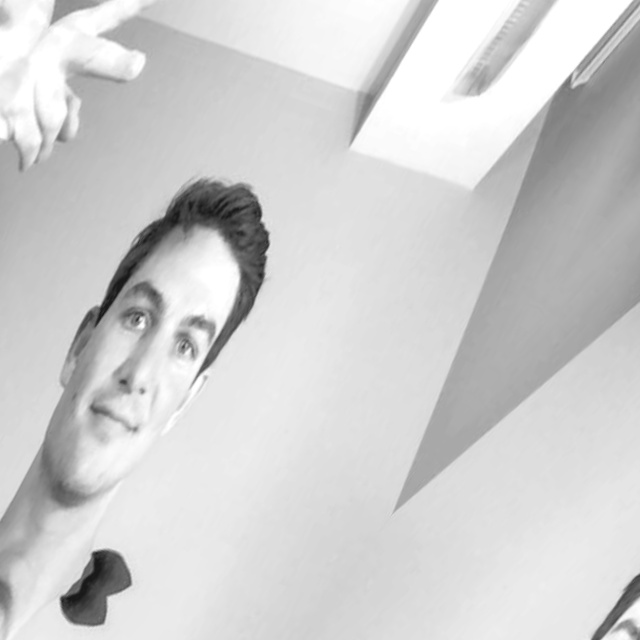Scissors: (0, 0, 128, 162)
